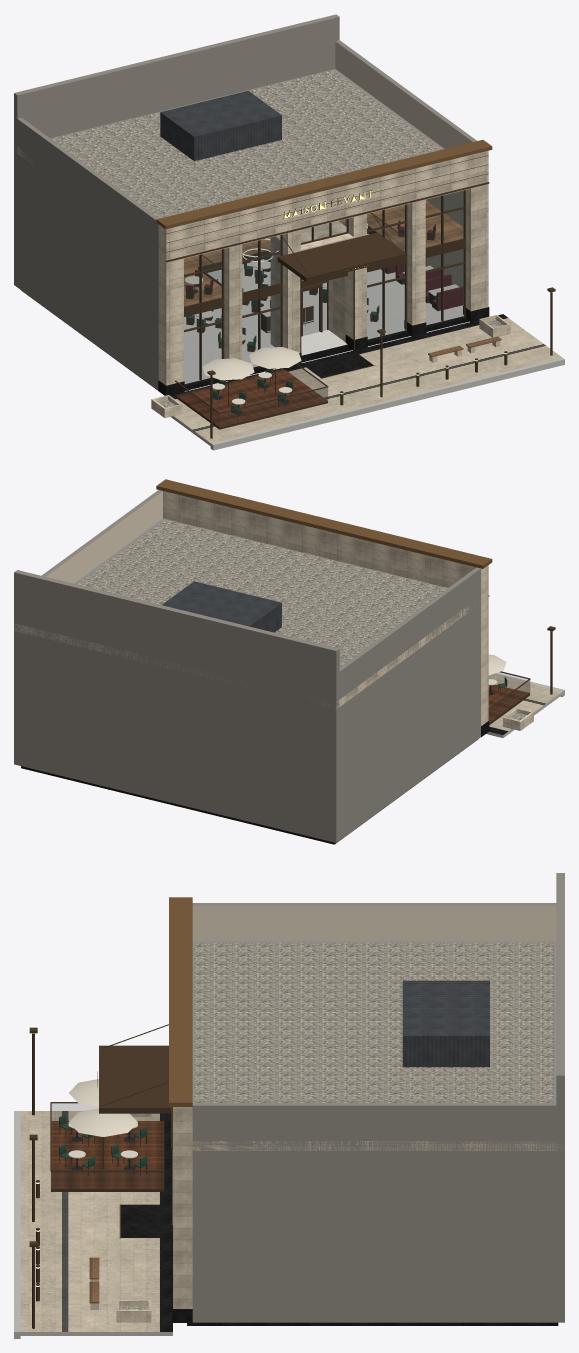
The model's file is maison_levant.glb.
3 views of the same model, one above another, from view 1: azimuth 30°, elevation 25°; view 2: azimuth 150°, elevation 25°; view 3: azimuth 270°, elevation 25° (orthographic). The views are drawn at different scales.
Parts seen in each view (by area): view 1: B01_LOD0_BUILDING_EXTERIOR_Stone, B01_LOD0_BUILDING_EXTERIOR_Roof, B01_LOD0_BUILDING_EXTERIOR_RearInterface, B01_SIDEWALK_FRONTAGE_Paving, B01_LOD0_FACADE_DETAILS_Bronze, B01_LOD0_BUILDING_INTERIOR_GroundSlab, B01_OPTIONAL_FORECOURT_Deck, B01_LOD0_BUILDING_INTERIOR_Slabs, B01_OPTIONAL_FORECOURT_TerraceFurniture, B01_LOD0_FURNITURE_Dining, B01_OPTIONAL_FORECOURT_DeckScreen, B01_LOD1_FURNITURE_Dining (+6 smaller); view 2: B01_LOD0_BUILDING_EXTERIOR_Stone, B01_LOD0_BUILDING_EXTERIOR_Roof, B01_LOD0_BUILDING_EXTERIOR_RearInterface, B01_LOD0_FACADE_DETAILS_Bronze, B01_SIDEWALK_FRONTAGE_Paving, B01_OPTIONAL_FORECOURT_DeckScreen, B01_LOD0_BUILDING_INTERIOR_GroundSlab, B01_OPTIONAL_FORECOURT_Deck, B01_OPTIONAL_FORECOURT_EmptyPlanters, B01_OPTIONAL_FORECOURT_TerraceFurniture; view 3: B01_LOD0_BUILDING_EXTERIOR_Stone, B01_LOD0_BUILDING_EXTERIOR_Roof, B01_SIDEWALK_FRONTAGE_Paving, B01_LOD0_FACADE_DETAILS_Bronze, B01_OPTIONAL_FORECOURT_Deck, B01_OPTIONAL_FORECOURT_TerraceFurniture, B01_OPTIONAL_FORECOURT_DeckScreen, B01_LOD0_BUILDING_EXTERIOR_RearInterface, B01_OPTIONAL_FORECOURT_PromenadeFurniture, B01_LOD0_BUILDING_INTERIOR_GroundSlab, B01_OPTIONAL_FORECOURT_EmptyPlanters.
Boxes of the visible parts, x1,y1,x2,y2 form: B01_LOD0_BUILDING_EXTERIOR_Stone: (14,40,489,395); B01_LOD0_BUILDING_EXTERIOR_Roof: (14,69,488,262); B01_LOD0_BUILDING_EXTERIOR_RearInterface: (14,14,339,286); B01_SIDEWALK_FRONTAGE_Paving: (170,314,564,450); B01_LOD0_FACADE_DETAILS_Bronze: (156,140,492,387); B01_LOD0_BUILDING_INTERIOR_GroundSlab: (21,259,469,390); B01_OPTIONAL_FORECOURT_Deck: (175,369,327,429); B01_LOD0_BUILDING_INTERIOR_Slabs: (184,200,463,306); B01_OPTIONAL_FORECOURT_TerraceFurniture: (202,347,301,419); B01_LOD0_FURNITURE_Dining: (184,219,463,351); B01_OPTIONAL_FORECOURT_DeckScreen: (175,363,328,426); B01_LOD1_FURNITURE_Dining: (184,220,463,351); B01_LOD0_BUILDING_EXTERIOR_Stone: (14,490,489,842); B01_LOD0_BUILDING_EXTERIOR_Roof: (14,518,488,708); B01_LOD0_BUILDING_EXTERIOR_RearInterface: (14,570,339,842); B01_LOD0_FACADE_DETAILS_Bronze: (156,479,492,596); B01_SIDEWALK_FRONTAGE_Paving: (486,673,564,737); B01_OPTIONAL_FORECOURT_DeckScreen: (488,671,530,721); B01_LOD0_BUILDING_INTERIOR_GroundSlab: (21,739,478,844); B01_OPTIONAL_FORECOURT_Deck: (488,684,529,724); B01_OPTIONAL_FORECOURT_EmptyPlanters: (503,707,533,730); B01_OPTIONAL_FORECOURT_TerraceFurniture: (488,654,507,695); B01_LOD0_BUILDING_EXTERIOR_Stone: (172,903,564,1322); B01_LOD0_BUILDING_EXTERIOR_Roof: (173,941,564,1150); B01_SIDEWALK_FRONTAGE_Paving: (14,1111,172,1338); B01_LOD0_FACADE_DETAILS_Bronze: (99,897,192,1149); B01_OPTIONAL_FORECOURT_Deck: (51,1121,164,1191); B01_OPTIONAL_FORECOURT_TerraceFurniture: (59,1079,147,1175); B01_OPTIONAL_FORECOURT_DeckScreen: (50,1102,164,1188); B01_LOD0_BUILDING_EXTERIOR_RearInterface: (556,873,564,1311); B01_OPTIONAL_FORECOURT_PromenadeFurniture: (29,1027,99,1328); B01_LOD0_BUILDING_INTERIOR_GroundSlab: (187,1322,558,1325); B01_OPTIONAL_FORECOURT_EmptyPlanters: (116,1113,151,1322).
Size of what is drawn, in the model's own units: 24.6 by 12.87 by 25.3.
42 materials, 12 textured.
